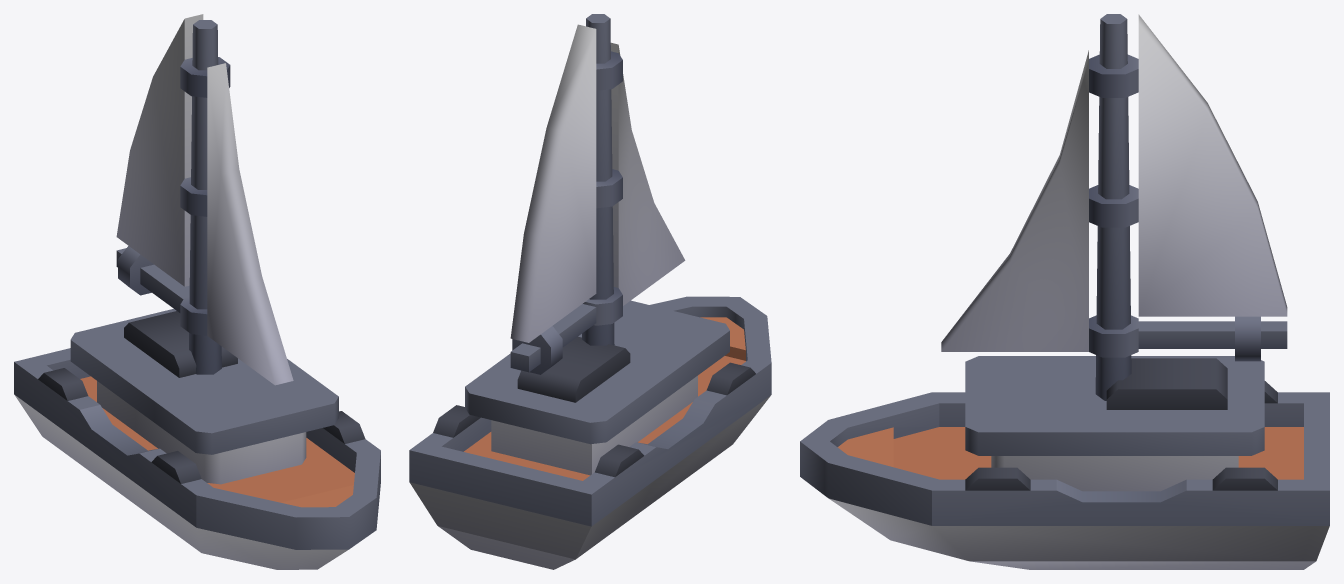
The model's file is boat-sail-b.glb.
3 views of the same model, side by side, from view 1: azimuth 30°, elevation 25°; view 2: azimuth 150°, elevation 25°; view 3: azimuth 270°, elevation 25° (orthographic). The views are drawn at different scales.
Visible parts, largest first — view 1: boat-sail-b, sail; view 2: boat-sail-b, sail; view 3: boat-sail-b, sail.
Boxes of the visible parts, x1,y1,x2,y2 form: boat-sail-b: [14, 308, 380, 569]; sail: [116, 14, 293, 385]; boat-sail-b: [409, 296, 771, 569]; sail: [510, 14, 685, 374]; boat-sail-b: [800, 356, 1329, 569]; sail: [941, 14, 1287, 400].
Size of the model in its own units: 1.78 by 4.48 by 4.07.
